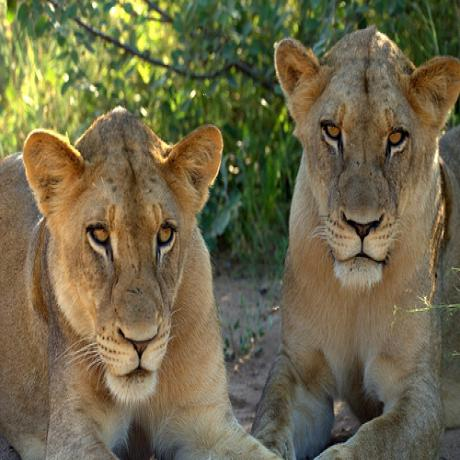Lion: (0, 100, 248, 460), (276, 14, 460, 460)
